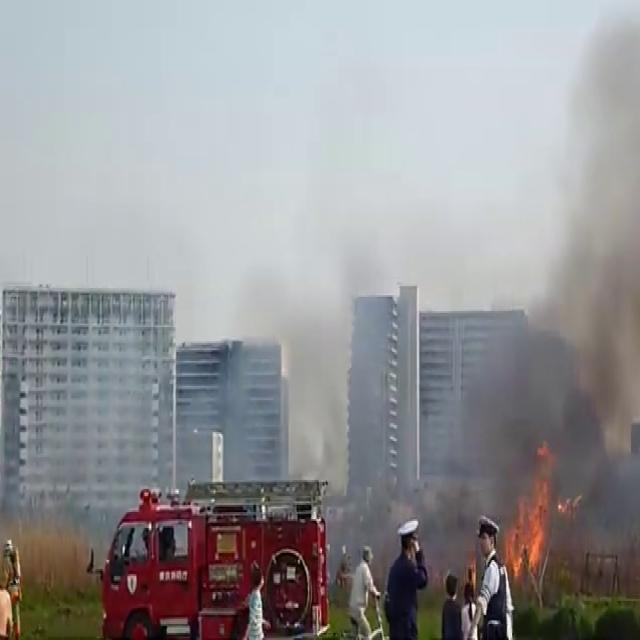Fire: (501, 443, 566, 582)
Smoke: (502, 2, 640, 556), (278, 295, 354, 484)
